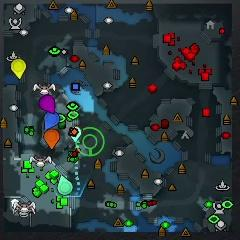p1: (43, 112, 59, 132)
p2: (57, 174, 73, 195)
p3: (39, 95, 56, 114)
p4: (10, 59, 27, 81)
p5: (43, 129, 60, 150)
